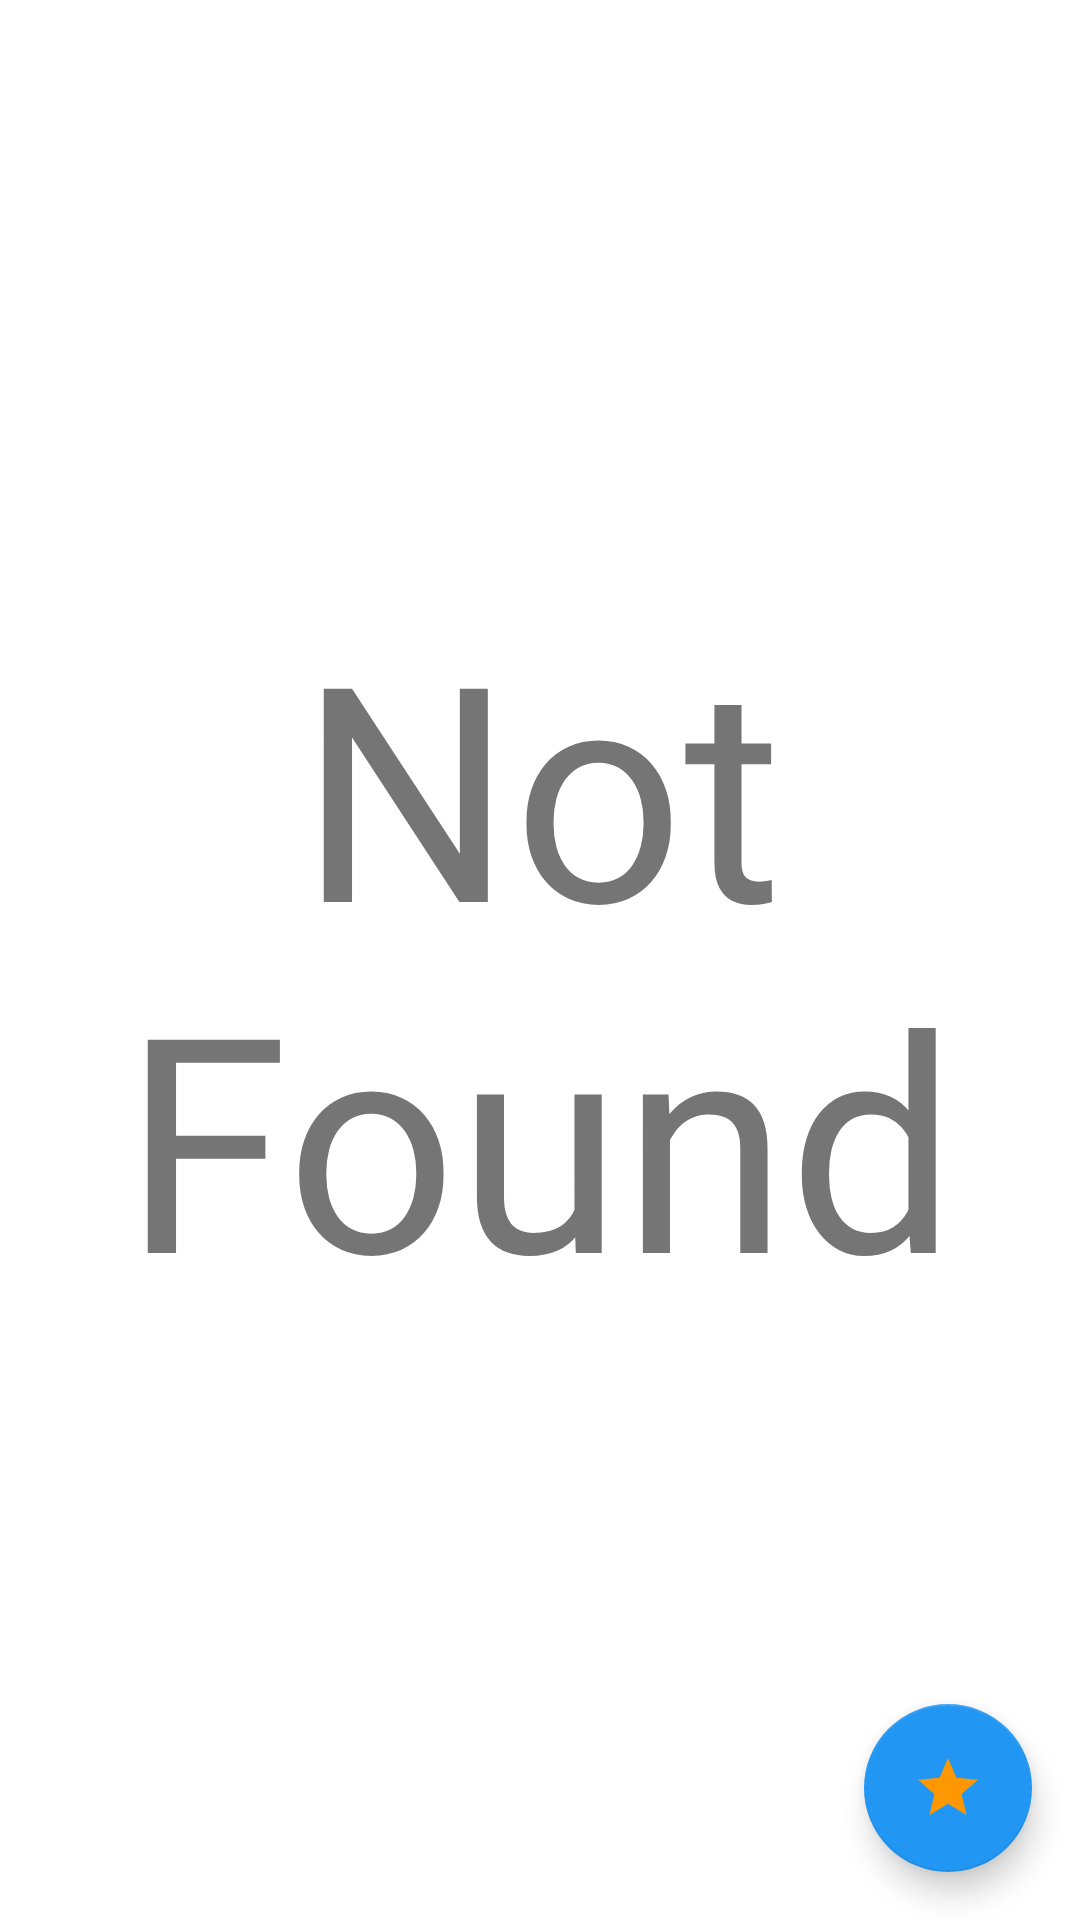

Screen size 1080*1920. Icon name, then its center in pixels as point (x, y):
Favorite User's: point (948, 1788)
